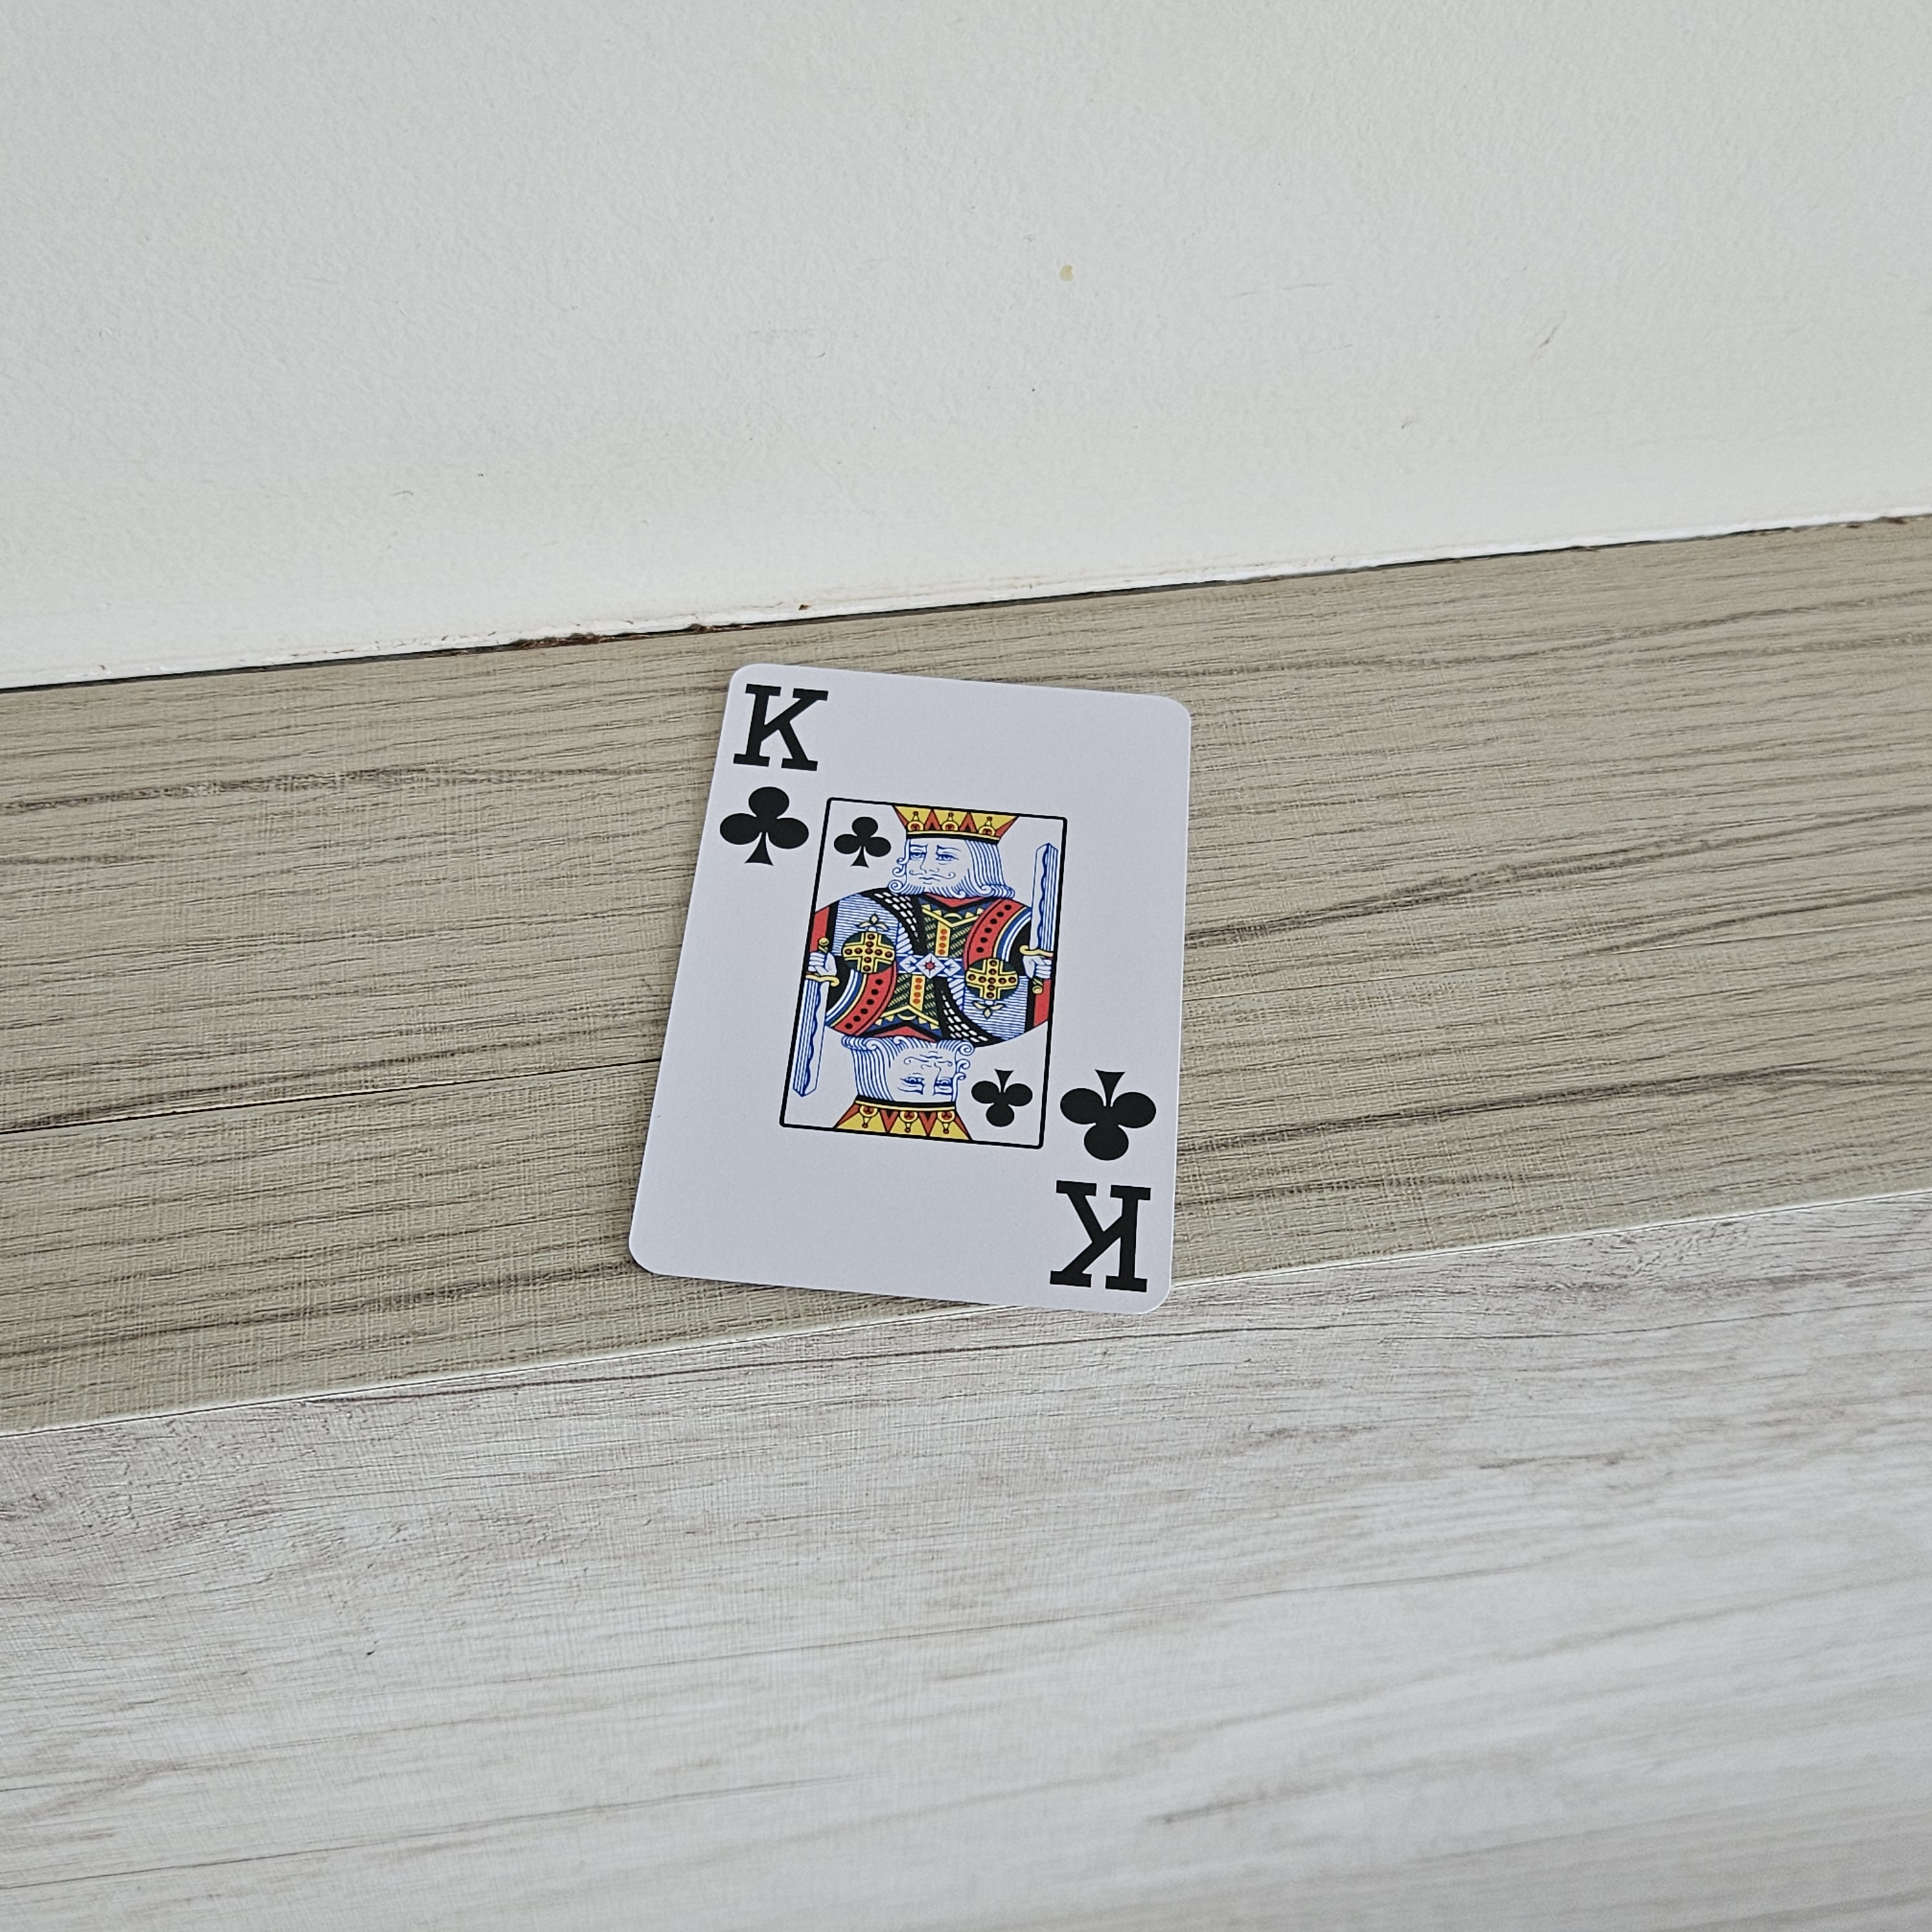KP: (1040, 1060, 1173, 1306), (711, 669, 837, 883)
